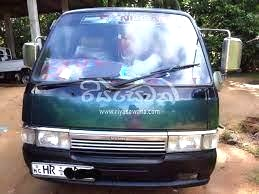van: (16, 7, 241, 187)
